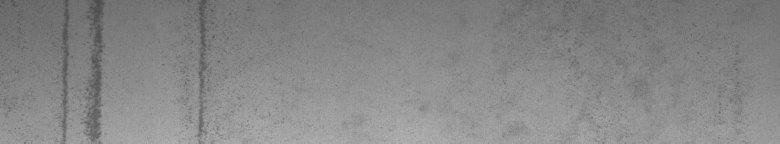hd: (186, 4, 233, 136)
